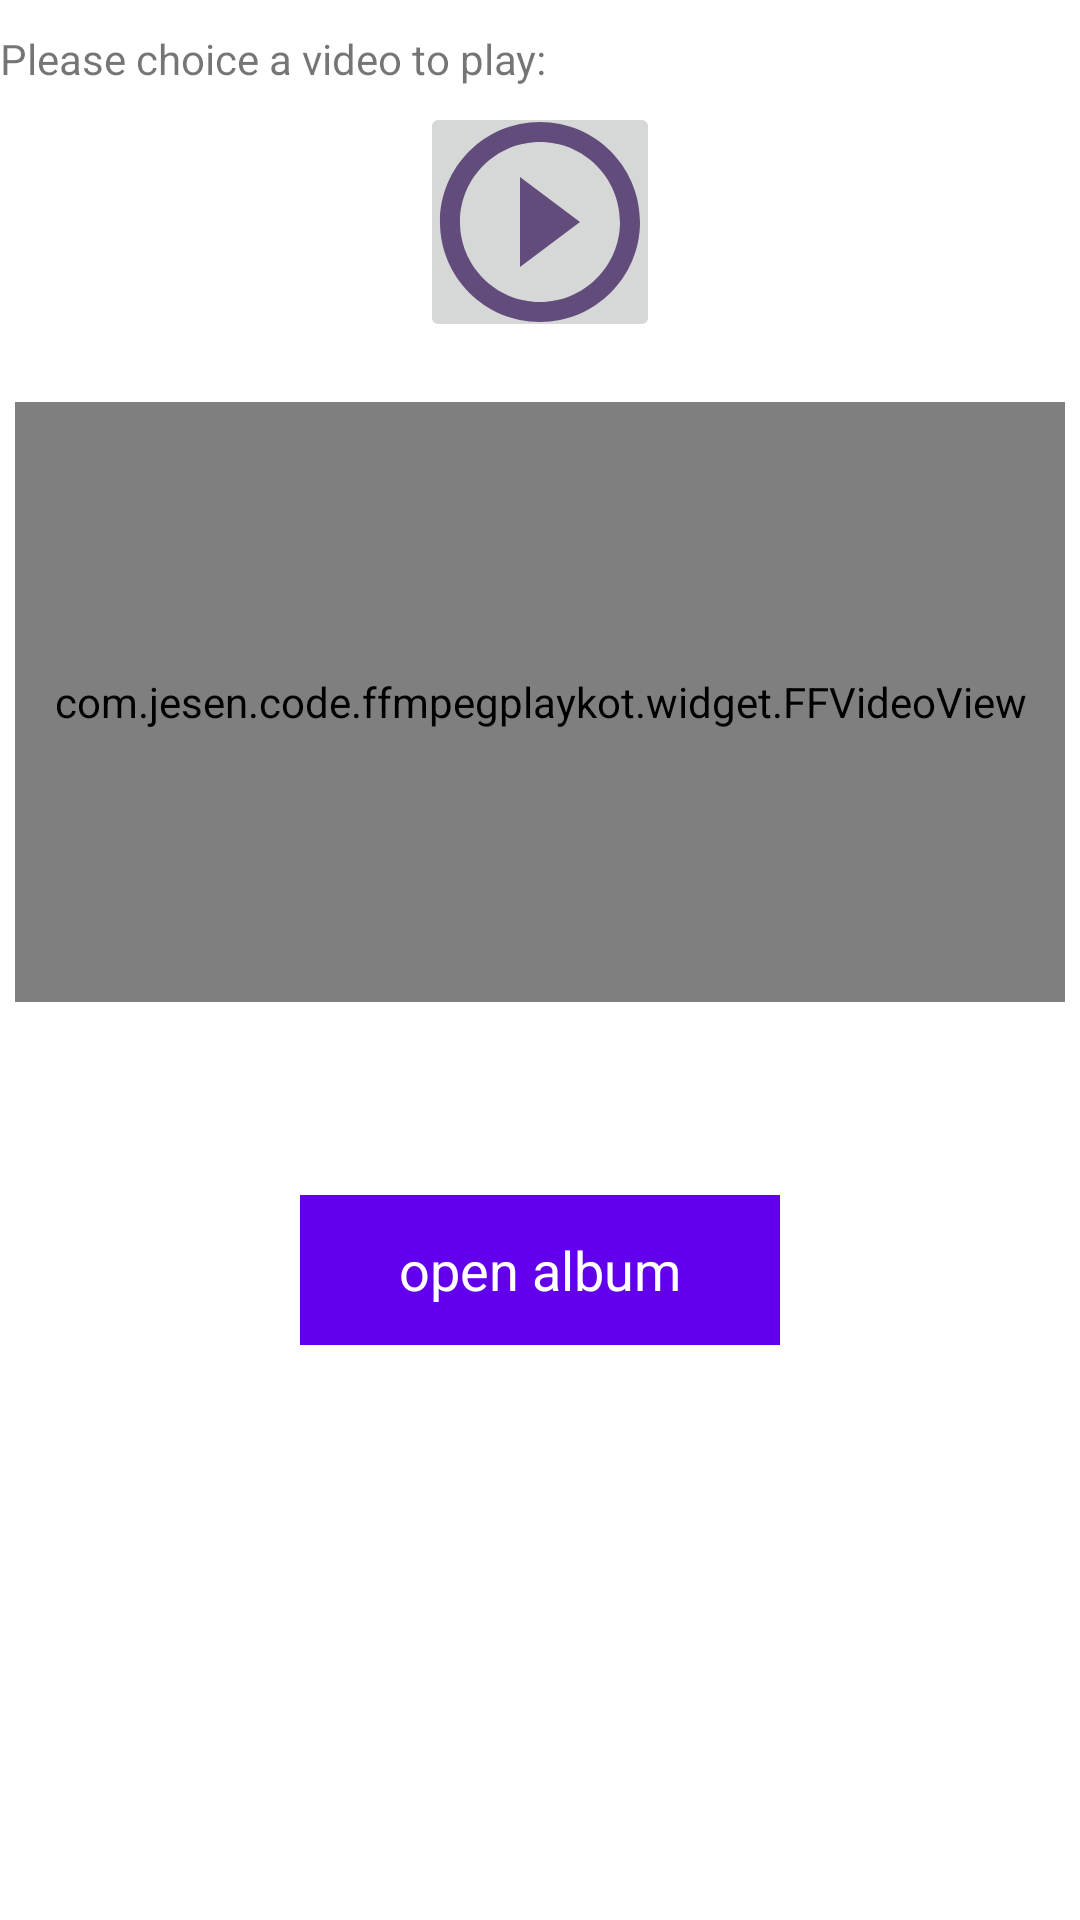

Where icons sit on this 1080px x 1920px app screen, as [x1=x1, y1=y1, x2=x2, y2=y2]:
play circle: [x1=432, y1=120, x2=648, y2=324]
